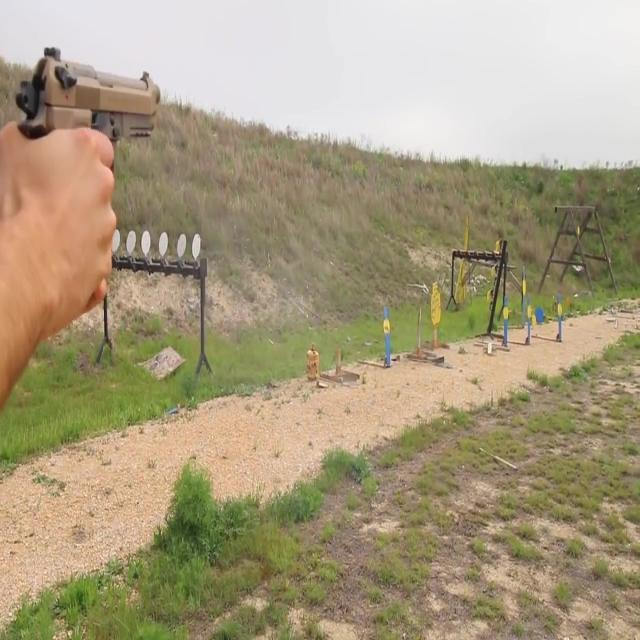Weapon: (13, 34, 216, 216)
